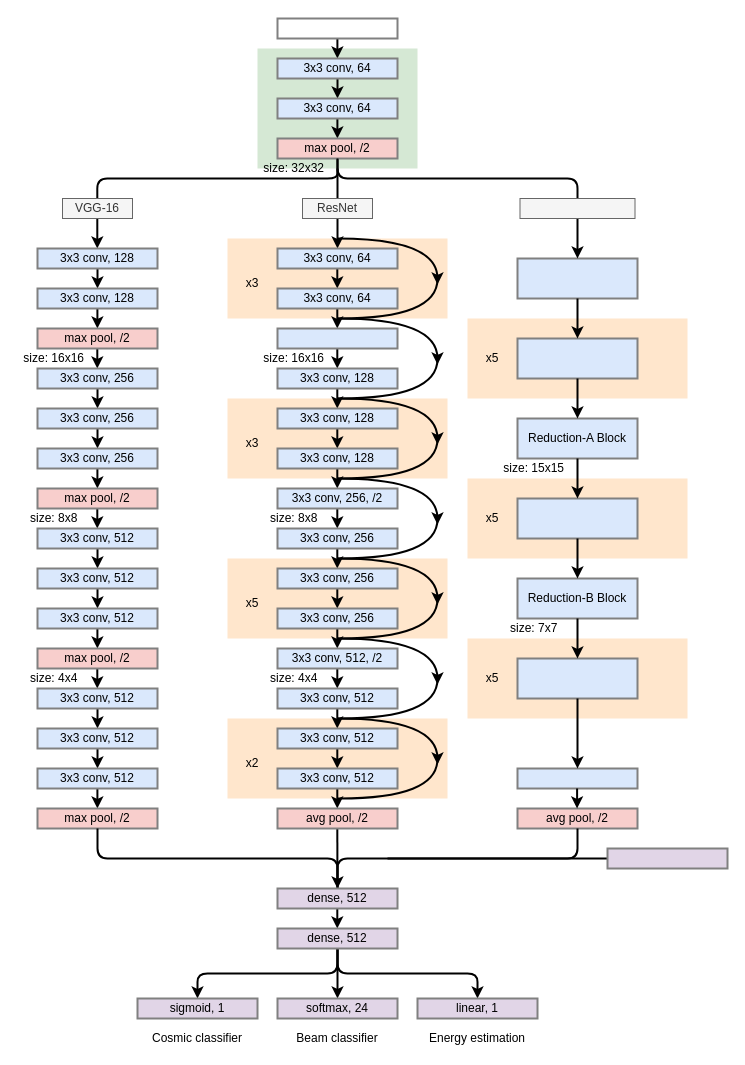
Image size: 745x1065. Some labels were removed from this diagram. The box of each missing label's shape, as (x1, y1, x2, y2) in pixels:
3x3 conv, 128, /2: (276, 327, 398, 349)
3x3 conv, 1536: (516, 767, 638, 789)
Image (64, 64, 3): (276, 17, 398, 39)
Inception-A Block: (516, 257, 638, 299)
Inception-ResNet: (519, 198, 635, 218)
Inception-ResNet-A Block: (516, 337, 638, 379)
Inception-ResNet-B Block: (516, 497, 638, 539)
Inception-ResNet-C Block: (516, 657, 638, 699)
reco params, 5: (606, 847, 728, 869)
